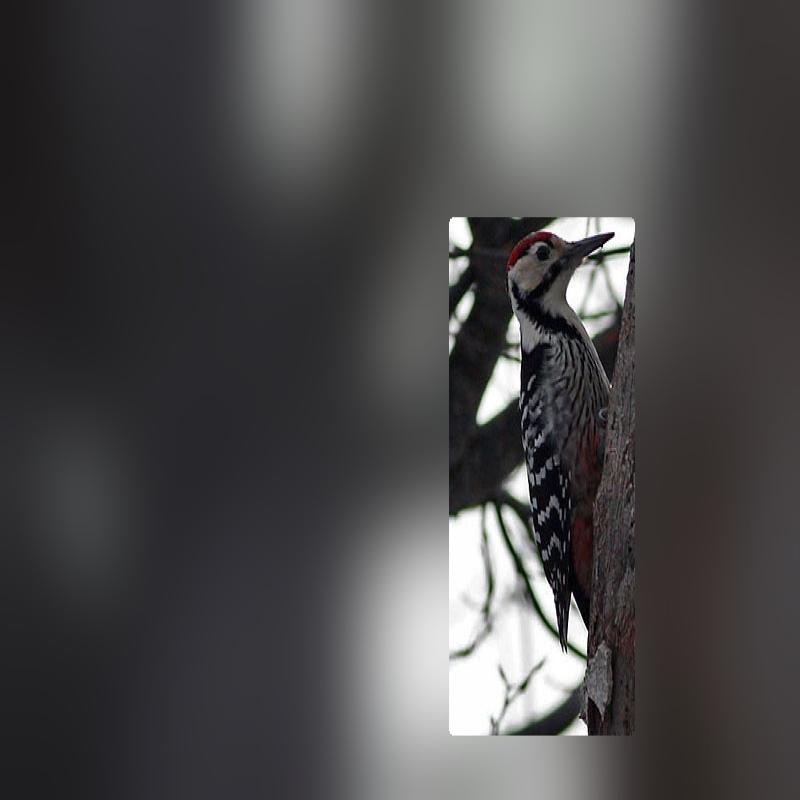white-backed woodpecker: (488, 214, 622, 643)
